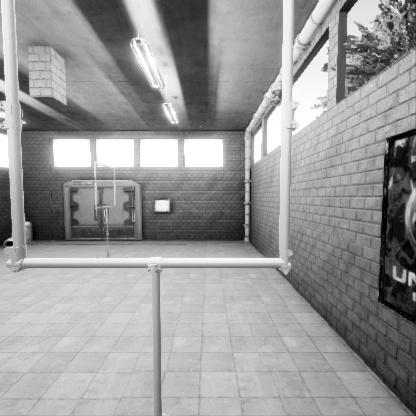gate: (94, 209, 116, 256)
